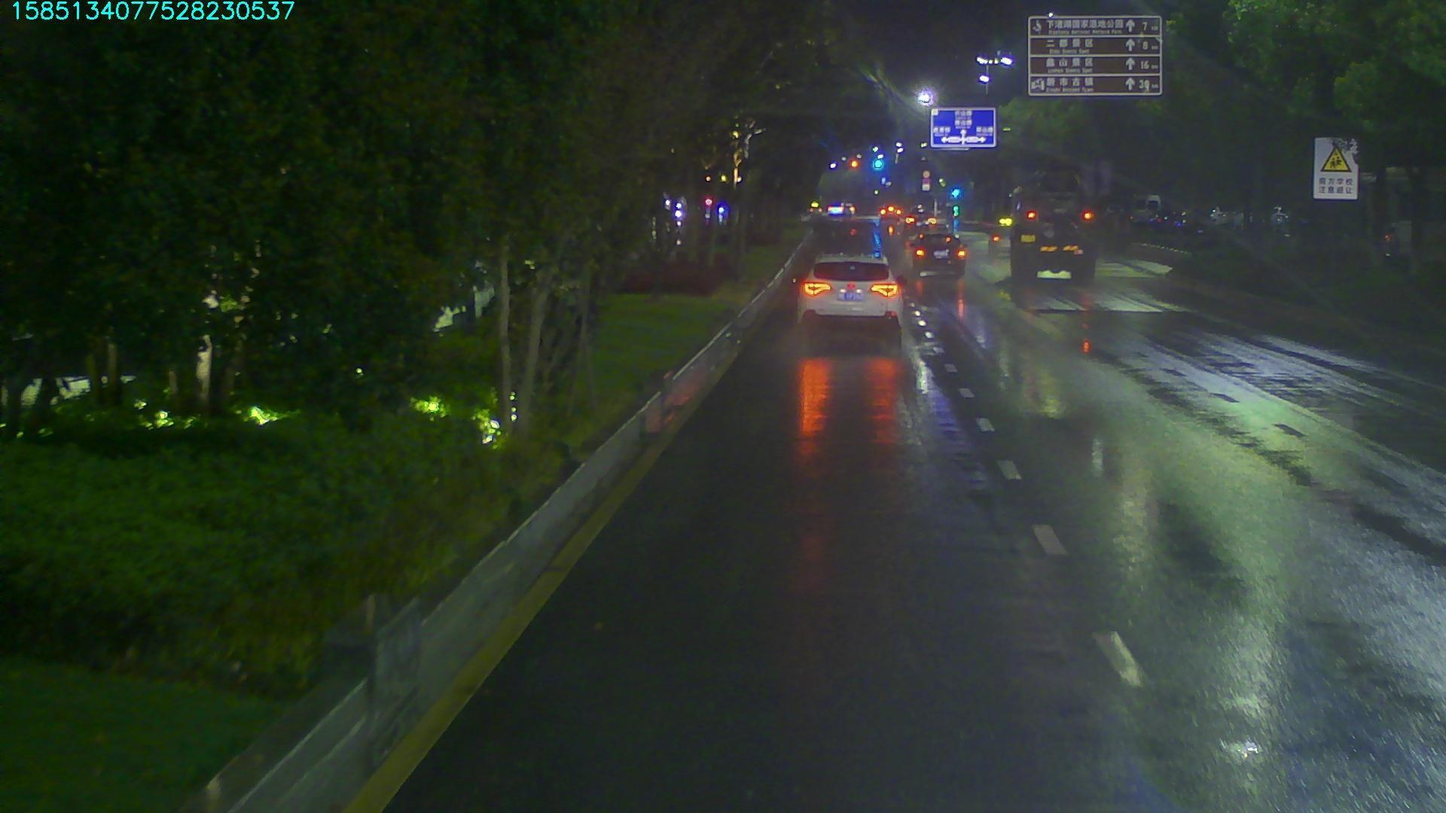green: (872, 158, 890, 175)
red: (846, 156, 862, 166)
